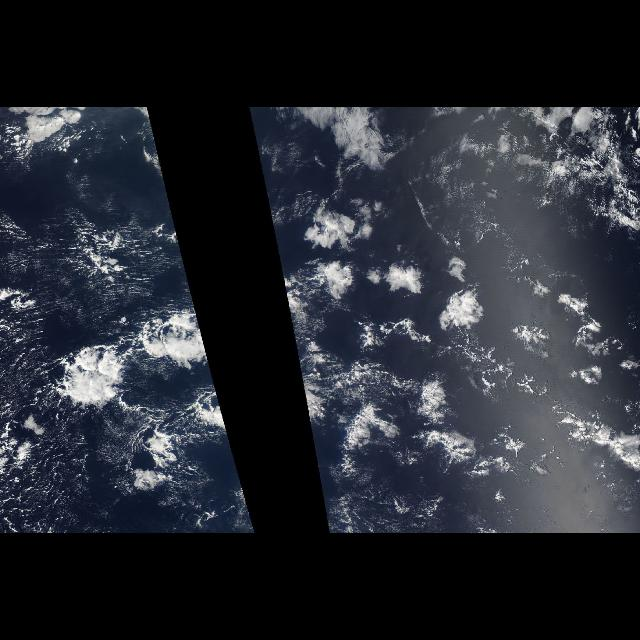Flower: (266, 190, 638, 502), (42, 193, 246, 501)
